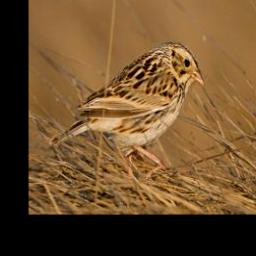Sparrow: (50, 40, 208, 183)
